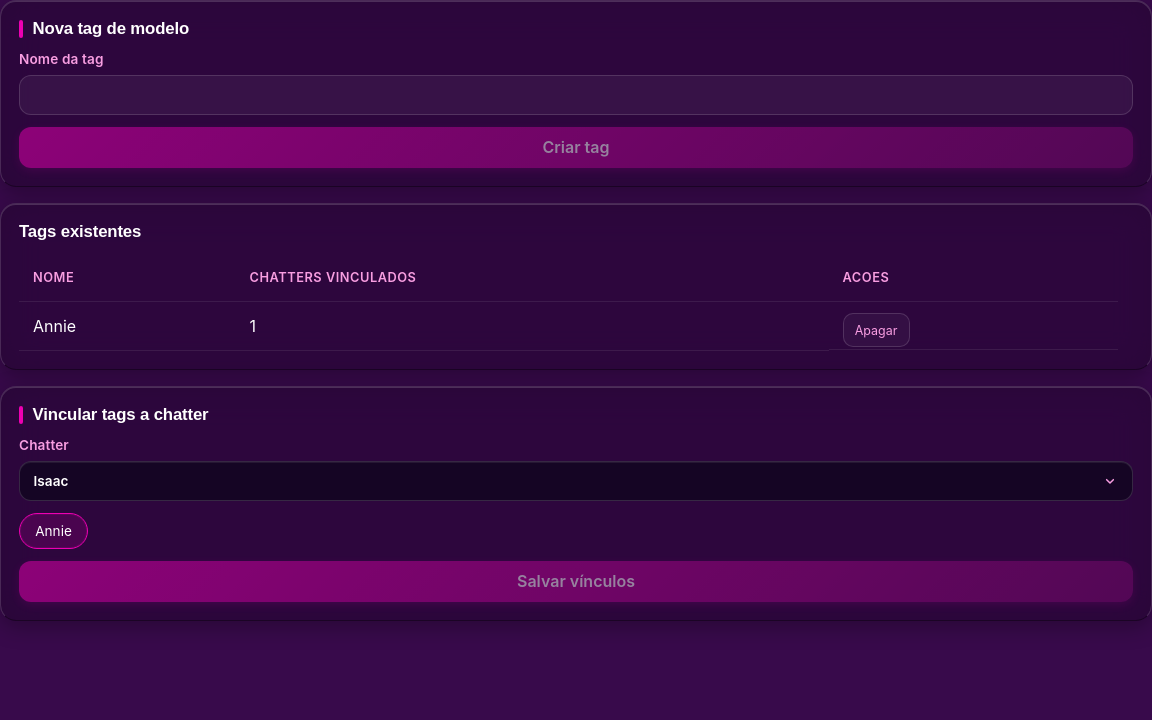
Scenario: ManagerTagsPage › mostra erro v1 de mutação sem bloquear a lista
Type "Annie" into the field labelled "Nome da tag" at [576, 95], box [19, 75, 1133, 115]
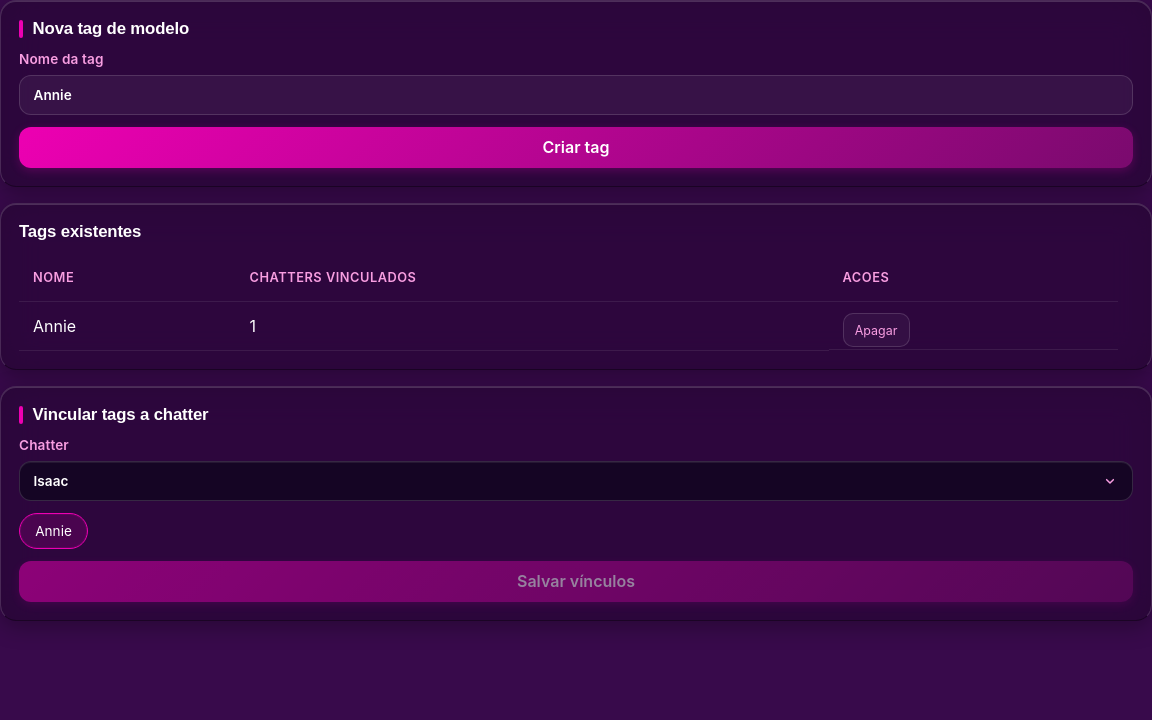
Click the button "Criar tag" at [576, 147], box [19, 127, 1133, 168]
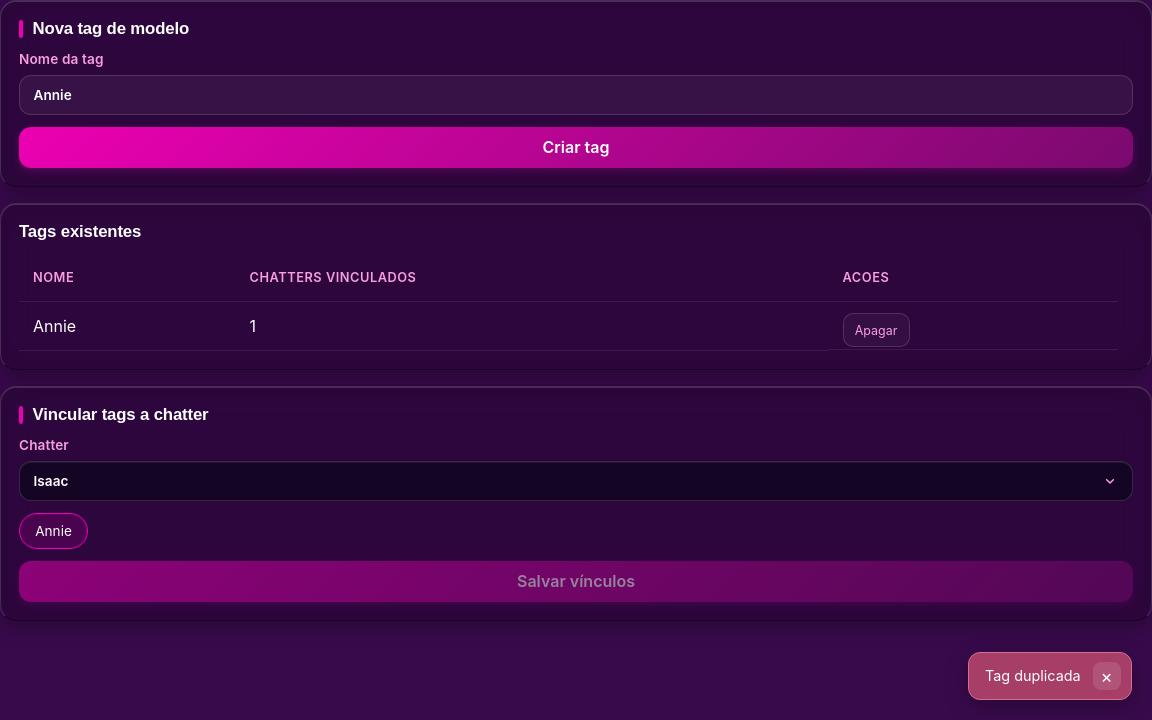
Expected: the text "Tag duplicada" is shown, [985, 667, 1081, 684]
